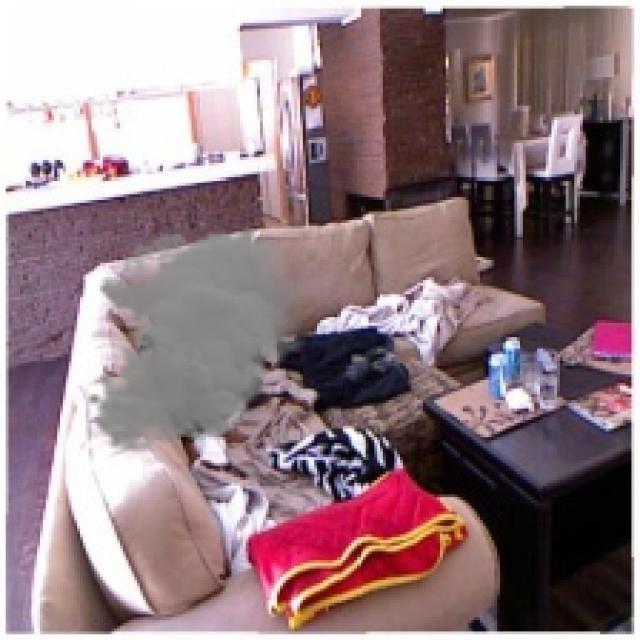Smoke: (86, 226, 312, 451)
